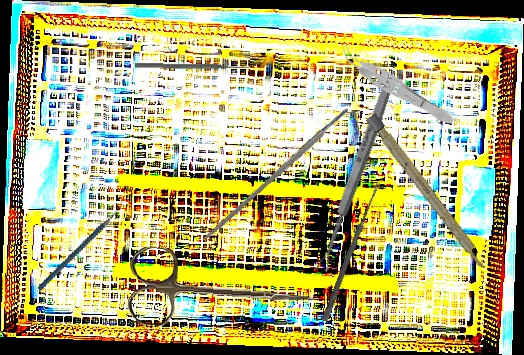Chopper: (18, 197, 143, 291)
Iris Scissors: (127, 246, 318, 334)
Pusher: (134, 62, 250, 71)
Scalpel Handle: (201, 107, 351, 243), (365, 112, 490, 272)
Surgical Spoon: (314, 74, 398, 273), (321, 180, 382, 323)
Tissue Forceps: (334, 41, 459, 131)
